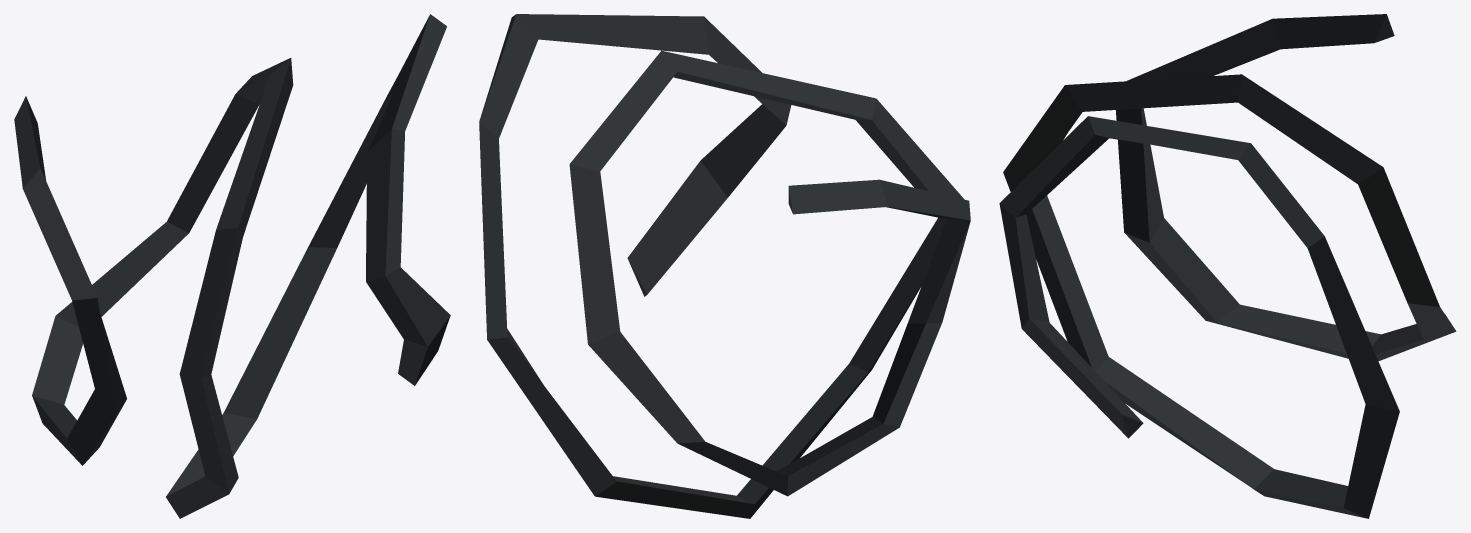
Rendered from SM_Prop_Powerline_Bundle_04.glb.
3 renders of one model, left to right at view 1: azimuth 30°, elevation 25°; view 2: azimuth 150°, elevation 25°; view 3: azimuth 270°, elevation 25°, orthographic. The views are drawn at different scales.
Parts seen in each view (by area): view 1: SM_Prop_Powerline_Bundle_04; view 2: SM_Prop_Powerline_Bundle_04; view 3: SM_Prop_Powerline_Bundle_04.
Part boxes in pixels (<box>): SM_Prop_Powerline_Bundle_04: <box>14,14,450,518</box>; SM_Prop_Powerline_Bundle_04: <box>479,14,970,518</box>; SM_Prop_Powerline_Bundle_04: <box>999,14,1456,518</box>.
Size of the model in its own units: 0.9622 by 0.9821 by 0.8471.
Materials: 1 (1 with a texture image).
